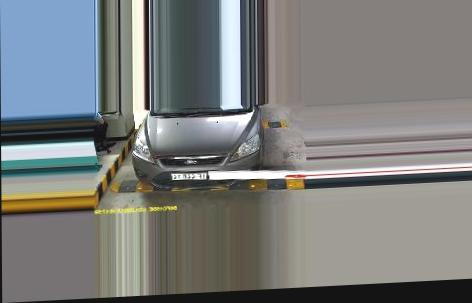License_Plate: (170, 166, 212, 182)
